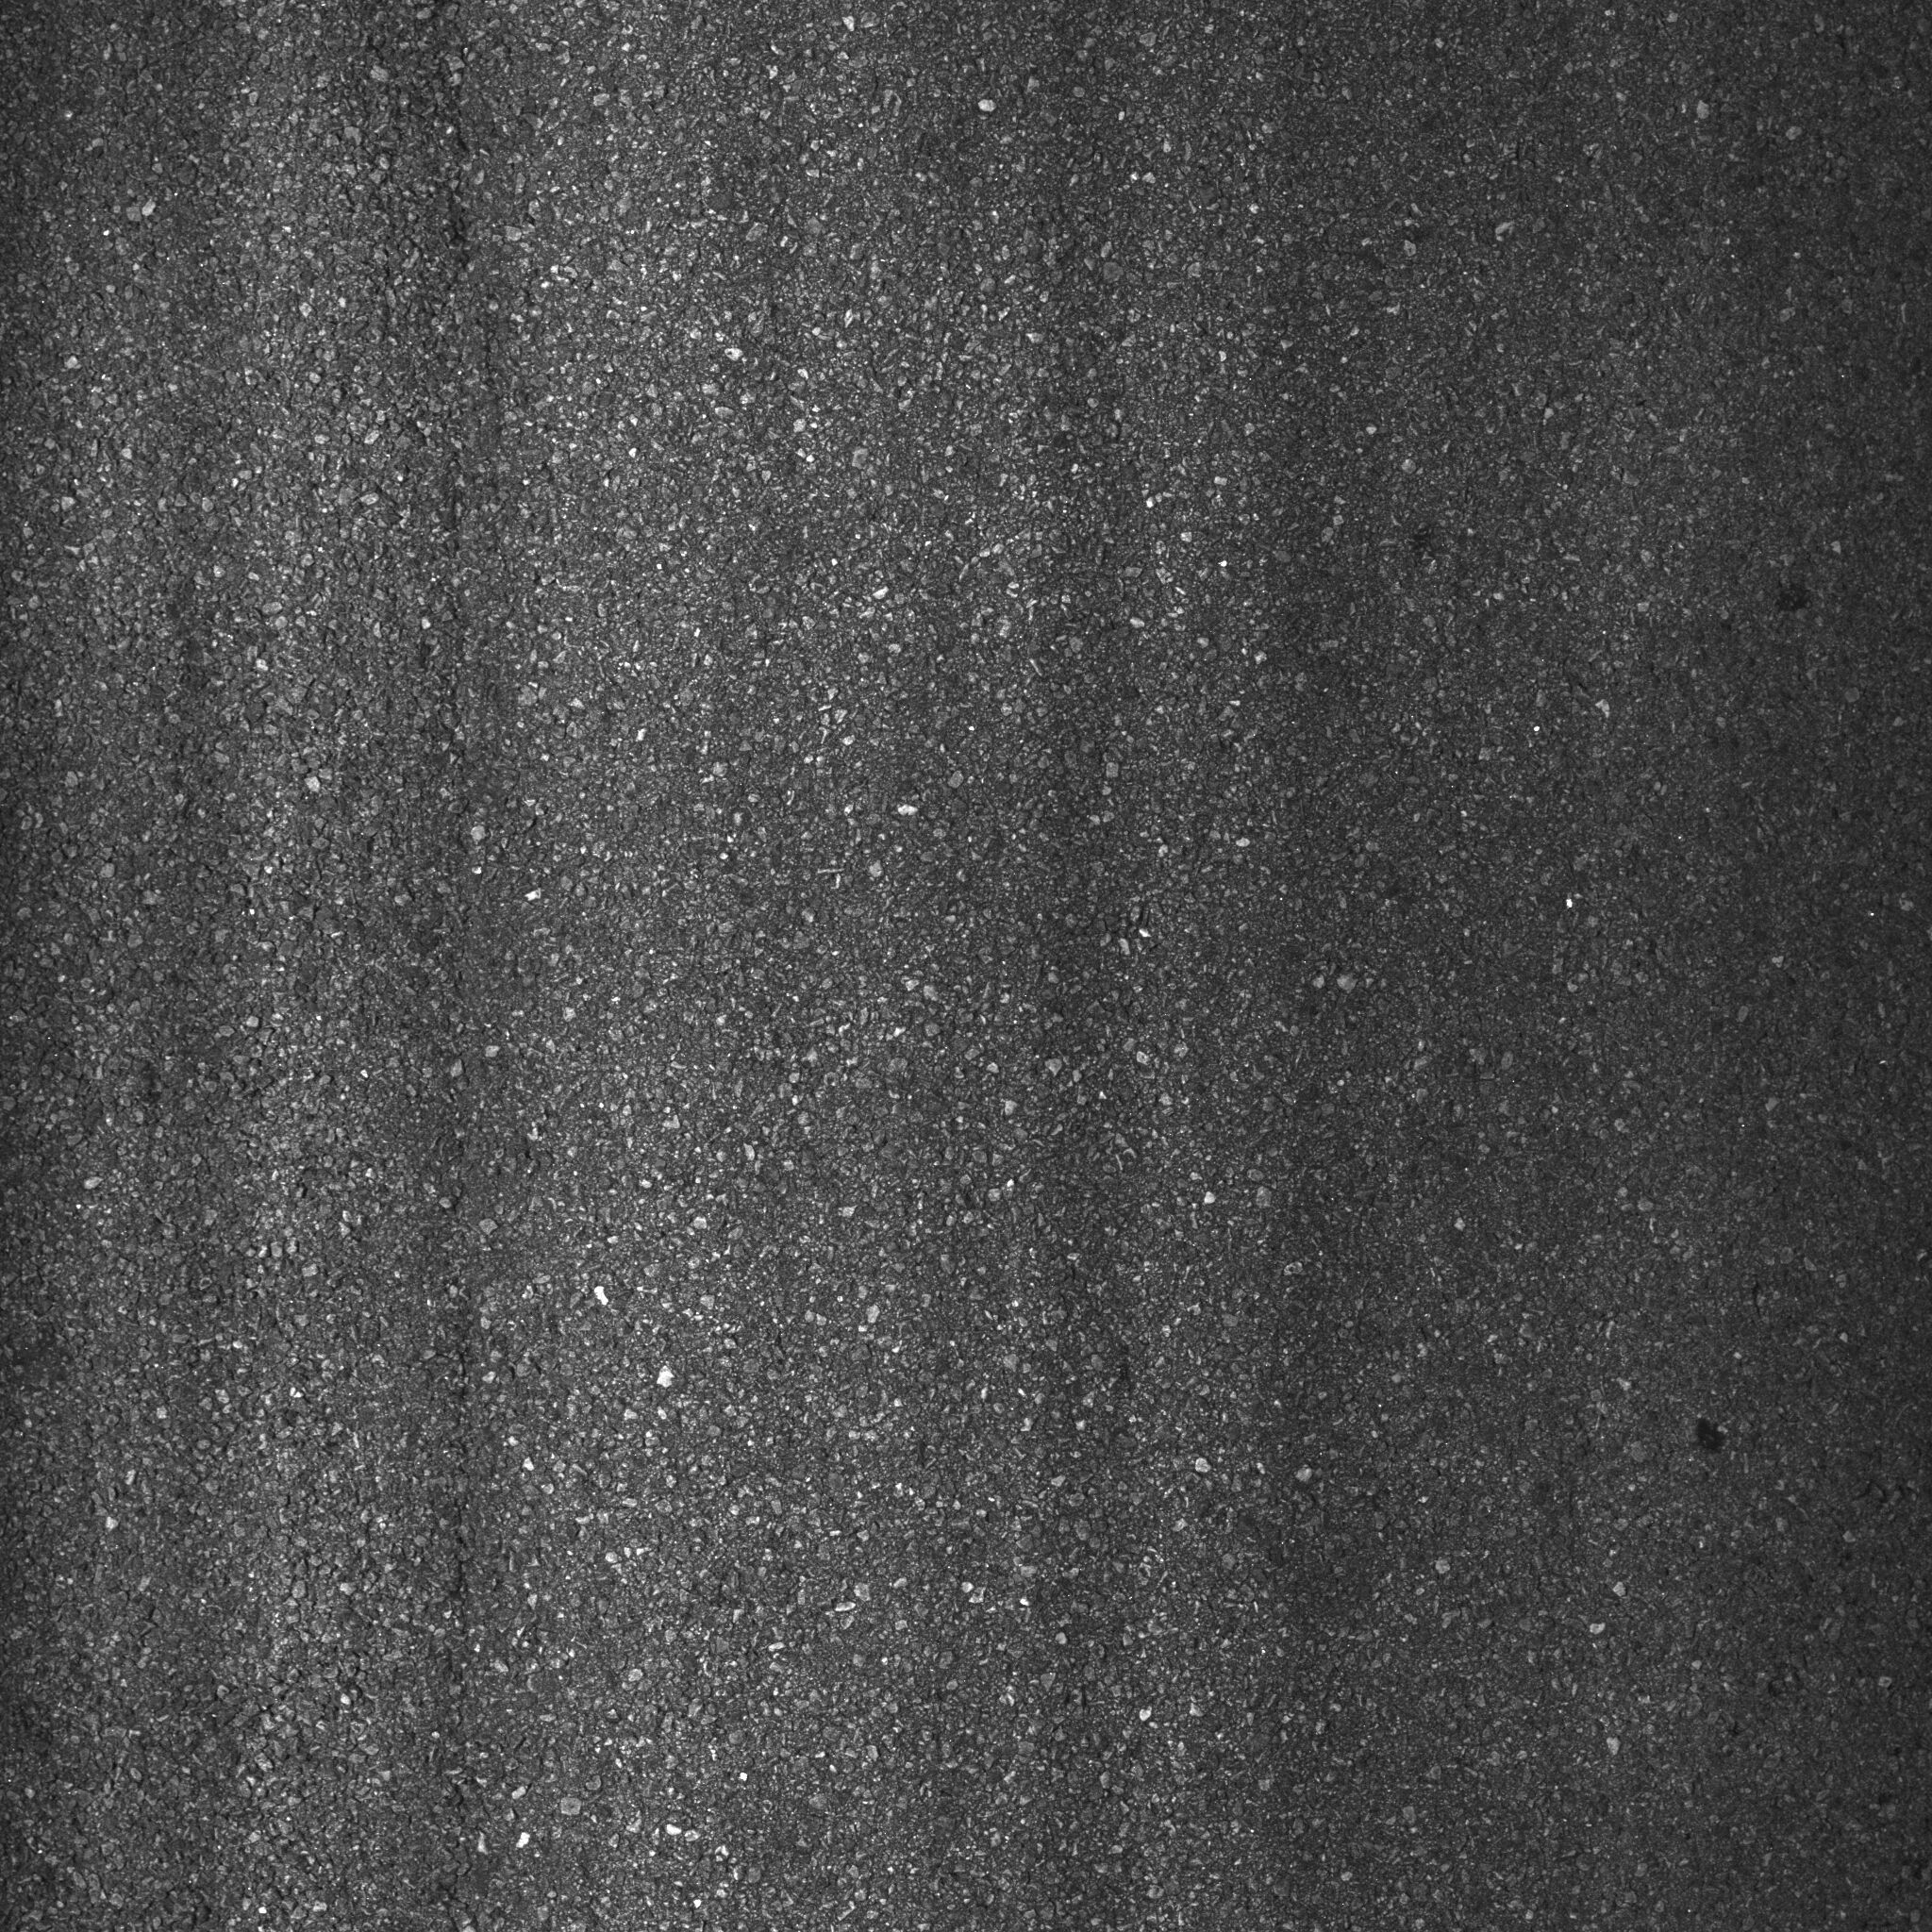longitudinal: (418, 1295, 488, 1785)
